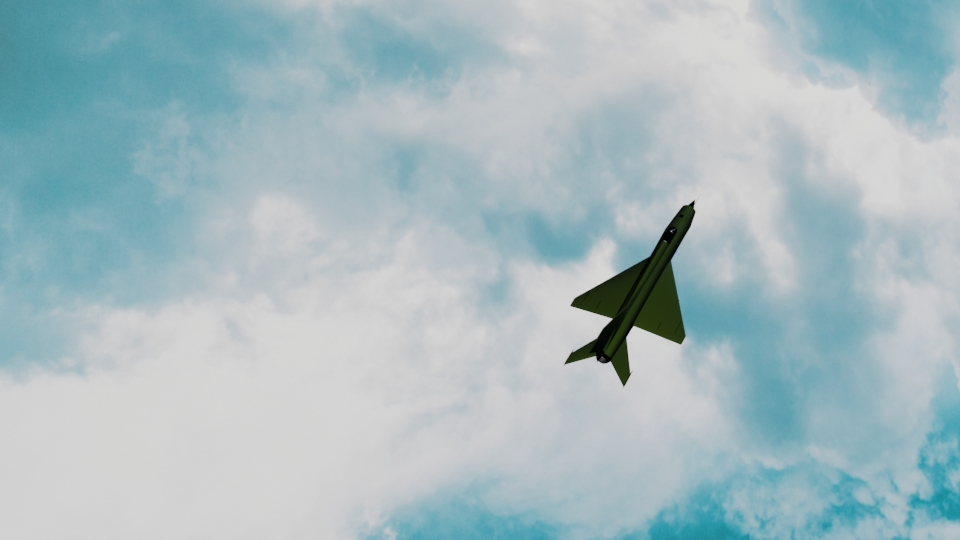plane: (561, 196, 700, 387)
